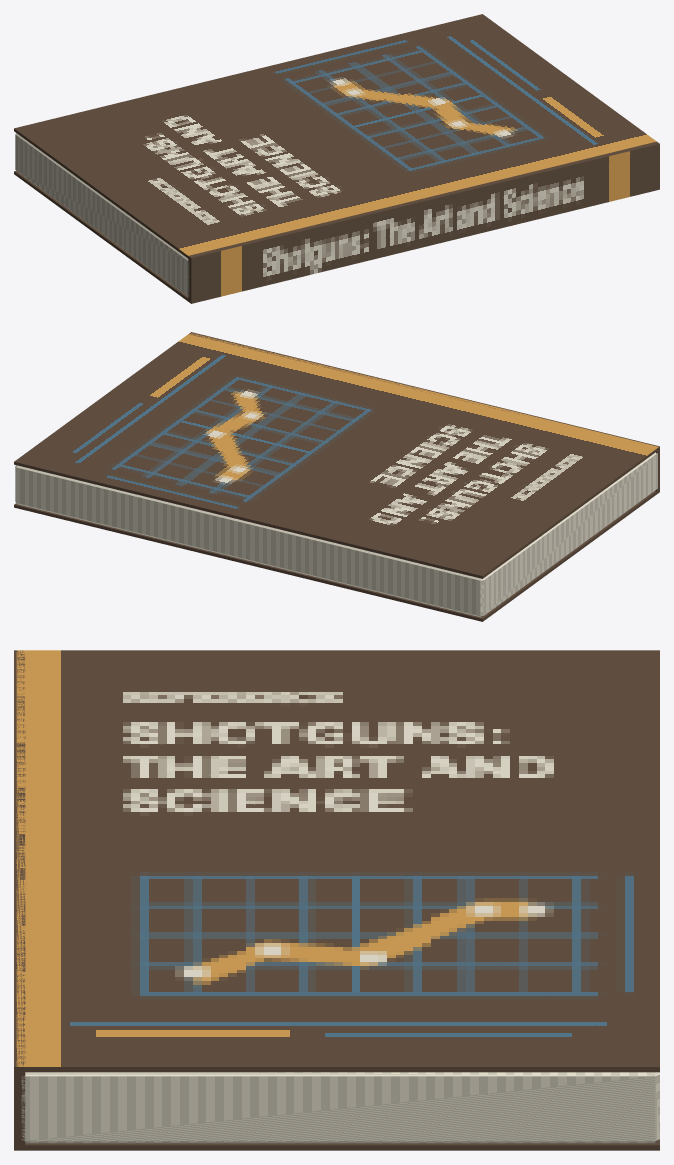
The model's file is manual_shotgun.glb.
3 renders of one model, top to bottom at view 1: azimuth 30°, elevation 25°; view 2: azimuth 150°, elevation 25°; view 3: azimuth 270°, elevation 25°, orthographic. The views are drawn at different scales.
Parts seen in each view (by area): view 1: block_front, block_spine, block_pages, block_back; view 2: block_front, block_pages, block_back, block_spine; view 3: block_front, block_pages, block_back, block_spine.
Part boxes in pixels (x1,y1,x2,y2): block_front: (14, 14, 656, 259); block_spine: (188, 141, 659, 303); block_pages: (15, 133, 189, 296); block_back: (14, 171, 190, 302); block_front: (14, 332, 659, 578); block_pages: (15, 452, 657, 617); block_back: (14, 490, 659, 621); block_spine: (188, 332, 659, 492); block_front: (16, 650, 659, 1072); block_pages: (21, 1072, 659, 1143); block_back: (17, 1139, 659, 1150); block_spine: (14, 650, 25, 1150).
Bounding box in the file's own units: 0.196 × 0.0183 × 0.1285.
1 material, 1 textured.
